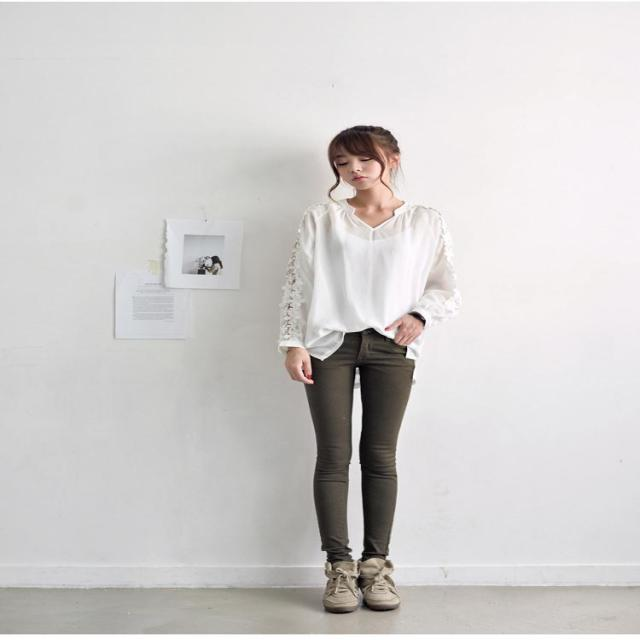long-sleeve-top: (263, 182, 457, 351)
trousers: (290, 357, 464, 558)
